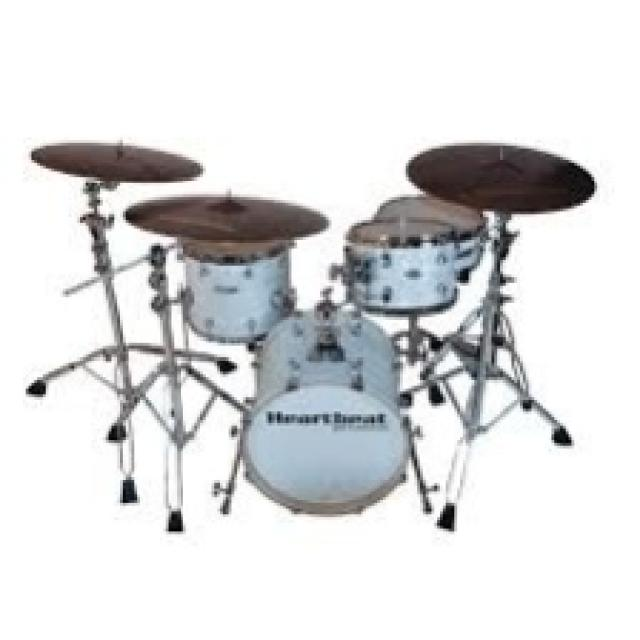drums: (23, 132, 604, 544)
